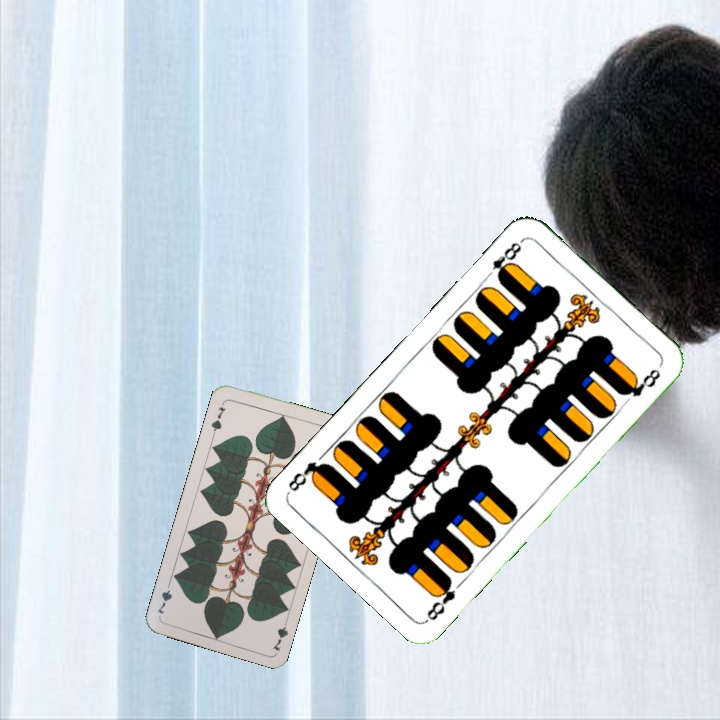E8: (481, 235, 526, 285), (422, 573, 459, 623)
G7: (268, 613, 291, 653), (207, 398, 228, 437)
